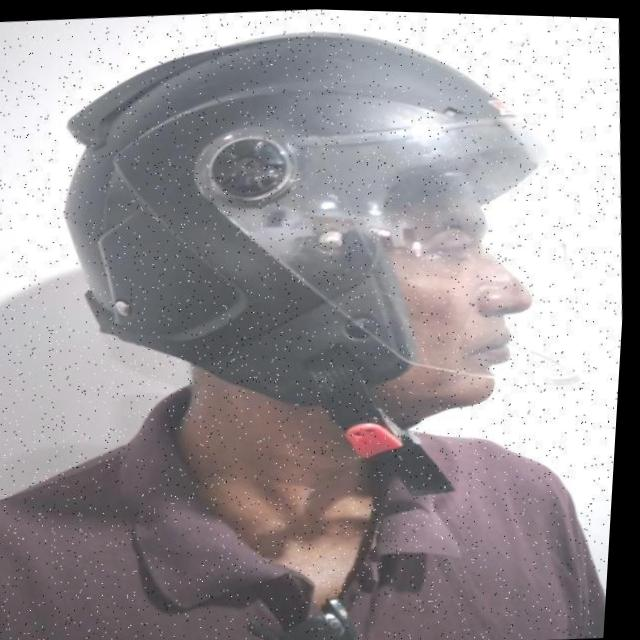helmet: (40, 7, 573, 523)
